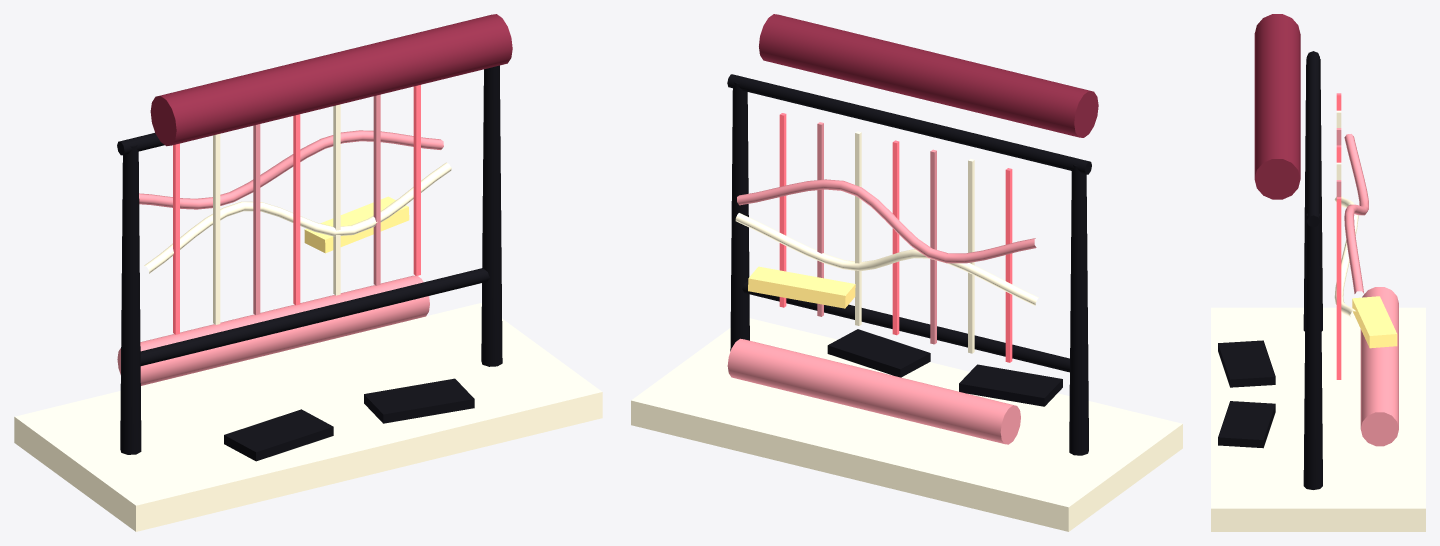
File: atelier-garment-loom.glb
3 renders of one model, left to right at view 1: azimuth 30°, elevation 25°; view 2: azimuth 150°, elevation 25°; view 3: azimuth 270°, elevation 25°, orthographic. The views are drawn at different scales.
Visible parts, largest first — view 1: loom-floor-runner, fabric-roll-back, fabric-roll-front, loom-left-post, loom-right-post, loom-bottom-bar, pedal-right, pedal-left, woven-thread-coral, woven-thread-cream, loom-shuttle, vertical-warp-thread-1 (+6 smaller); view 2: loom-floor-runner, fabric-roll-back, fabric-roll-front, loom-top-bar, loom-left-post, loom-right-post, woven-thread-coral, loom-bottom-bar, pedal-left, pedal-right, woven-thread-cream, loom-shuttle (+7 smaller); view 3: loom-floor-runner, fabric-roll-back, loom-right-post, fabric-roll-front, loom-top-bar, pedal-left, pedal-right, woven-thread-coral, loom-shuttle, vertical-warp-thread-6, loom-left-post, woven-thread-cream.
Part boxes in pixels (<box>): loom-floor-runner: <box>14,303,602,531</box>; fabric-roll-back: <box>150,14,512,146</box>; fabric-roll-front: <box>117,275,429,385</box>; loom-left-post: <box>120,145,141,454</box>; loom-right-post: <box>481,65,502,366</box>; loom-bottom-bar: <box>140,268,489,365</box>; pedal-right: <box>364,378,474,423</box>; pedal-left: <box>224,409,333,461</box>; woven-thread-coral: <box>139,130,443,209</box>; woven-thread-cream: <box>144,162,451,273</box>; loom-shuttle: <box>304,196,409,253</box>; vertical-warp-thread-1: <box>213,134,220,324</box>; loom-floor-runner: <box>631,318,1182,531</box>; fabric-roll-back: <box>759,14,1098,137</box>; fabric-roll-front: <box>727,338,1020,444</box>; loom-top-bar: <box>727,74,1091,174</box>; loom-left-post: <box>1069,165,1088,455</box>; loom-right-post: <box>730,82,749,351</box>; woven-thread-coral: <box>737,179,1036,263</box>; loom-bottom-bar: <box>742,281,1070,372</box>; pedal-left: <box>959,364,1062,406</box>; pedal-right: <box>827,329,930,377</box>; woven-thread-cream: <box>735,213,1038,305</box>; loom-shuttle: <box>748,266,855,308</box>; loom-floor-runner: <box>1211,307,1425,531</box>; fabric-roll-back: <box>1254,14,1300,199</box>; loom-right-post: <box>1303,213,1322,489</box>; fabric-roll-front: <box>1360,287,1398,446</box>; loom-top-bar: <box>1306,51,1319,227</box>; pedal-left: <box>1218,340,1275,387</box>; pedal-right: <box>1218,401,1275,448</box>; woven-thread-coral: <box>1344,134,1368,293</box>; loom-shuttle: <box>1352,296,1397,348</box>; vertical-warp-thread-6: <box>1336,197,1341,379</box>; loom-left-post: <box>1303,58,1322,331</box>; woven-thread-cream: <box>1334,196,1358,318</box>.
Bounding box in the file's own units: 1.86 × 1.49 × 0.84.
